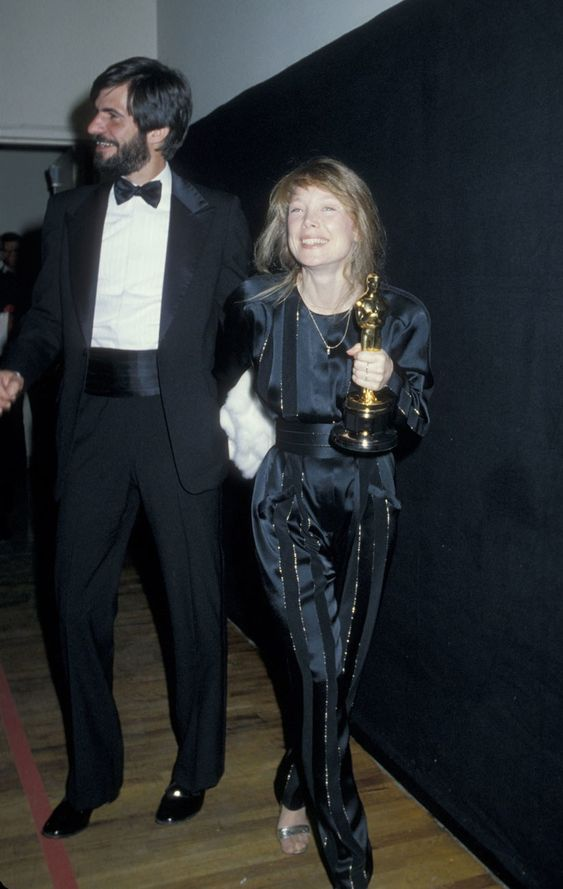hand: (346, 348, 389, 382)
